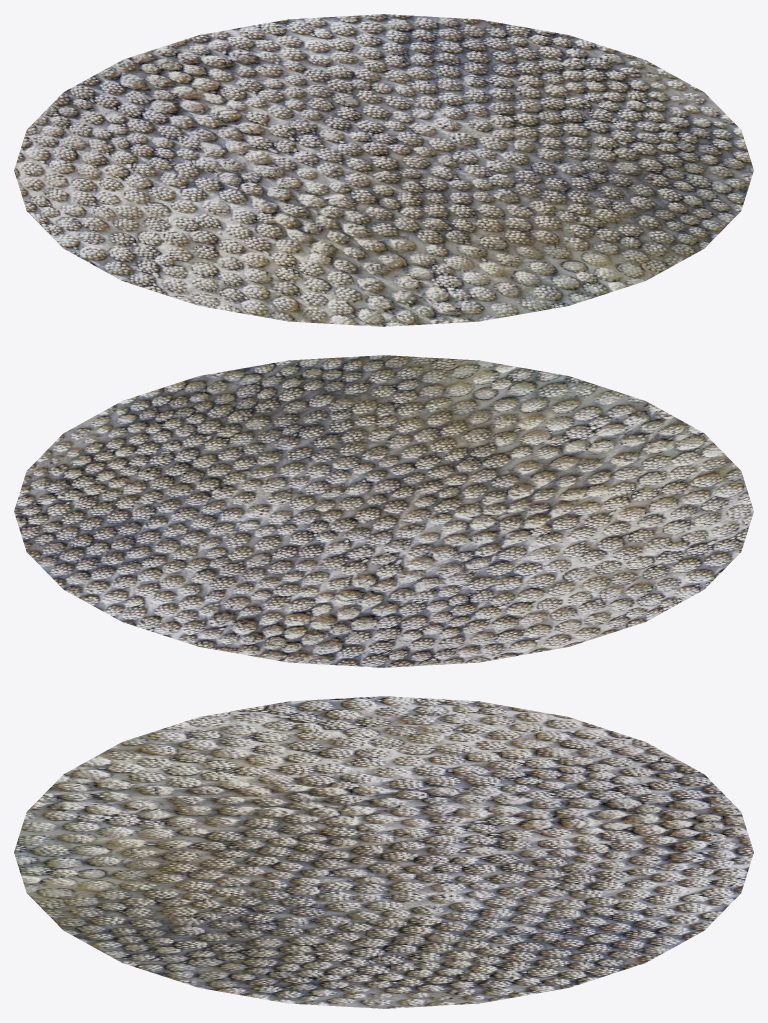
The model's file is tapete.obj.
3 views of the same model, one above another, from view 1: azimuth 30°, elevation 25°; view 2: azimuth 150°, elevation 25°; view 3: azimuth 270°, elevation 25° (orthographic).
Visible parts, largest first — view 1: pDisc1; view 2: pDisc1; view 3: pDisc1.
Part boxes in pixels (x1,y1,x2,y2): pDisc1: (14,14,753,326); pDisc1: (14,355,753,667); pDisc1: (14,696,753,1008).
Bounding box in the file's own units: 2 × 0 × 2.
Materials: 1 (1 with a texture image).
